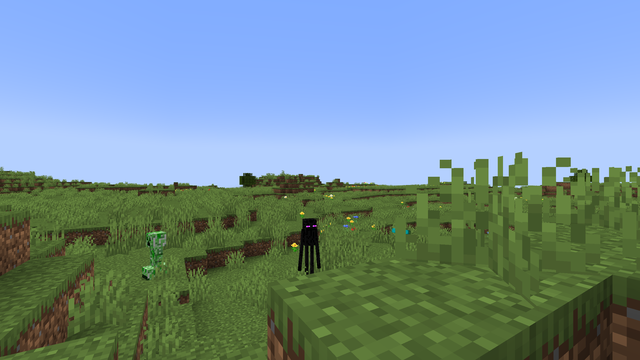creepers: (146, 228, 165, 279)
endermens: (300, 216, 317, 267)
zombies: (393, 221, 407, 254)
